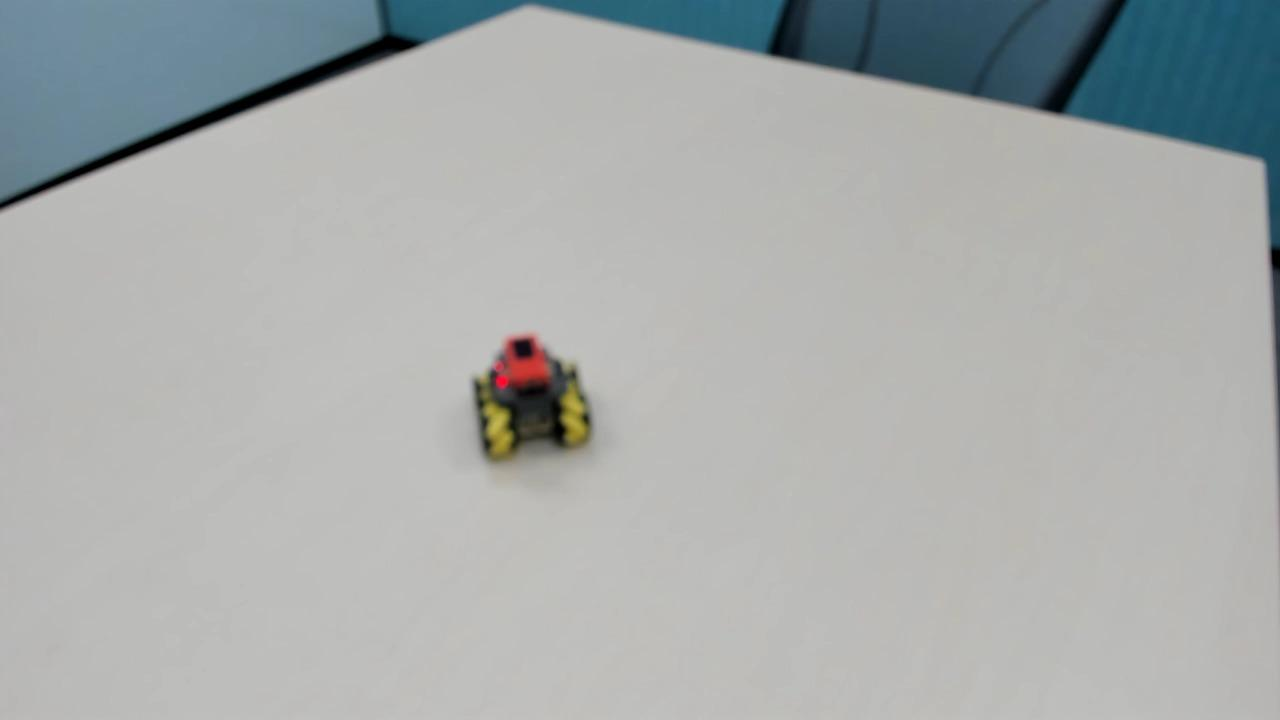R-Robot: (441, 309, 614, 480)
